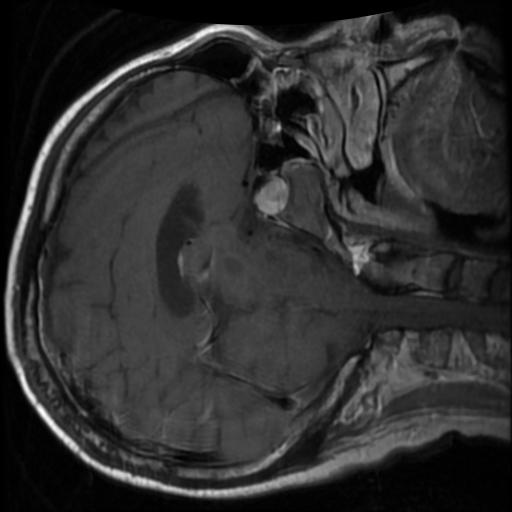pituitary tumour: (257, 176, 287, 213)
